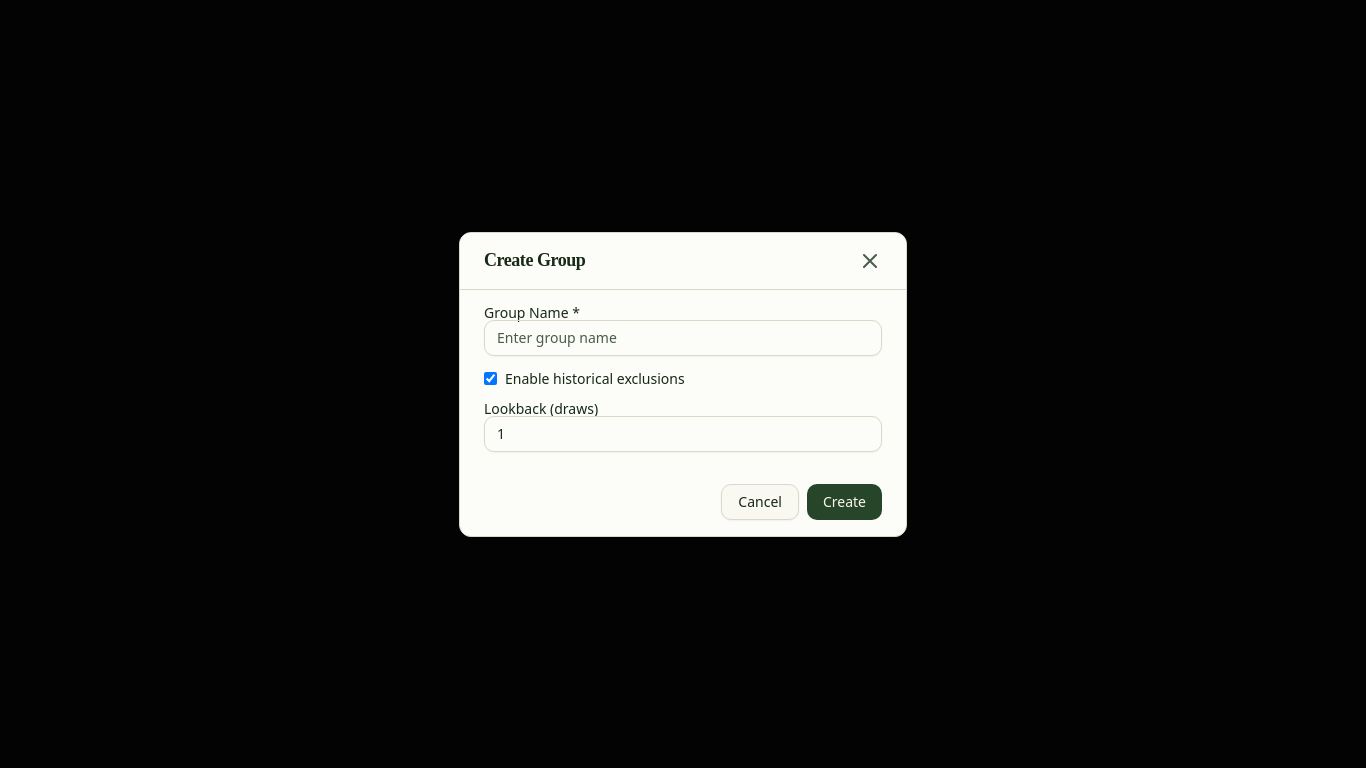
CreateGroupDialog › validates lookback field when enabled
In the field labelled "Group Name *": {"x": 683, "y": 338} [484,320,882,356], type "Test Group"
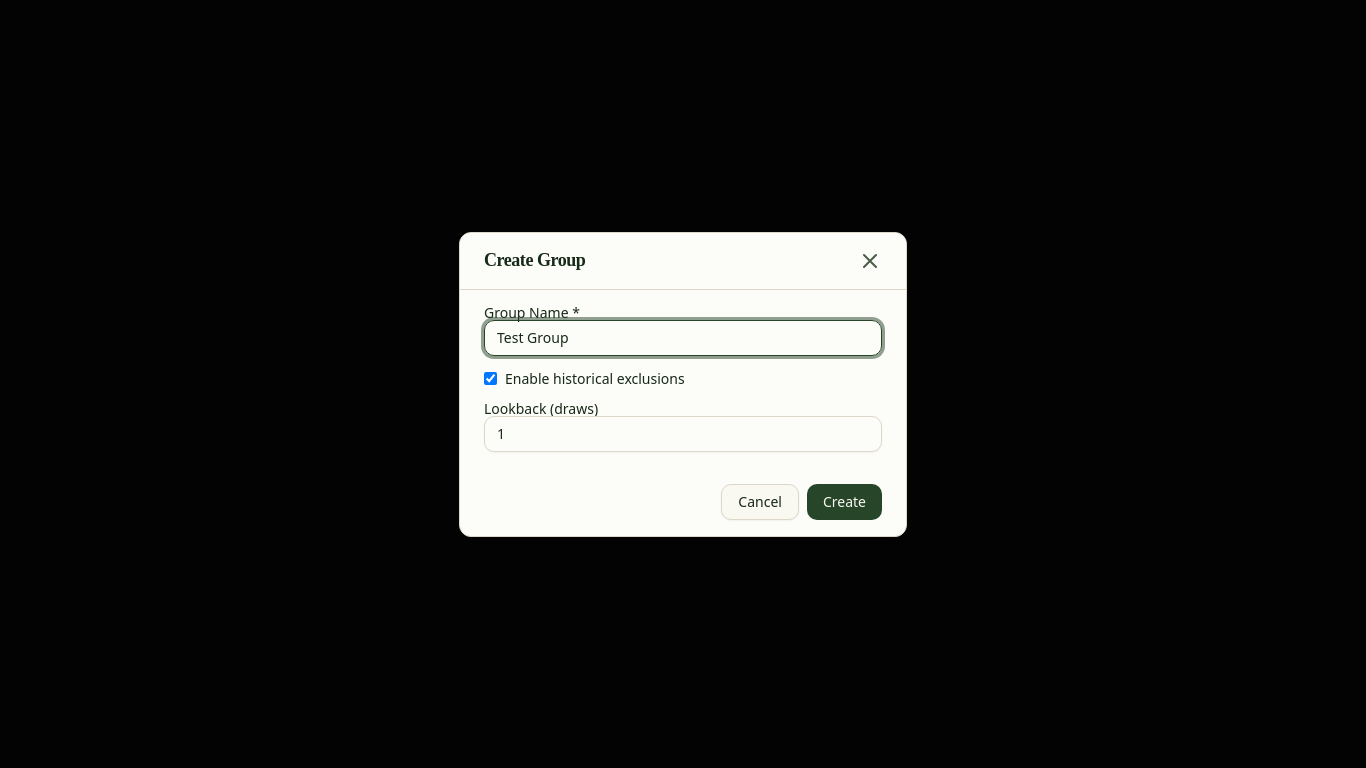
Replace the text in the number field labelled "Lookback (draws)" with "0": {"x": 683, "y": 434} [484,416,882,452]
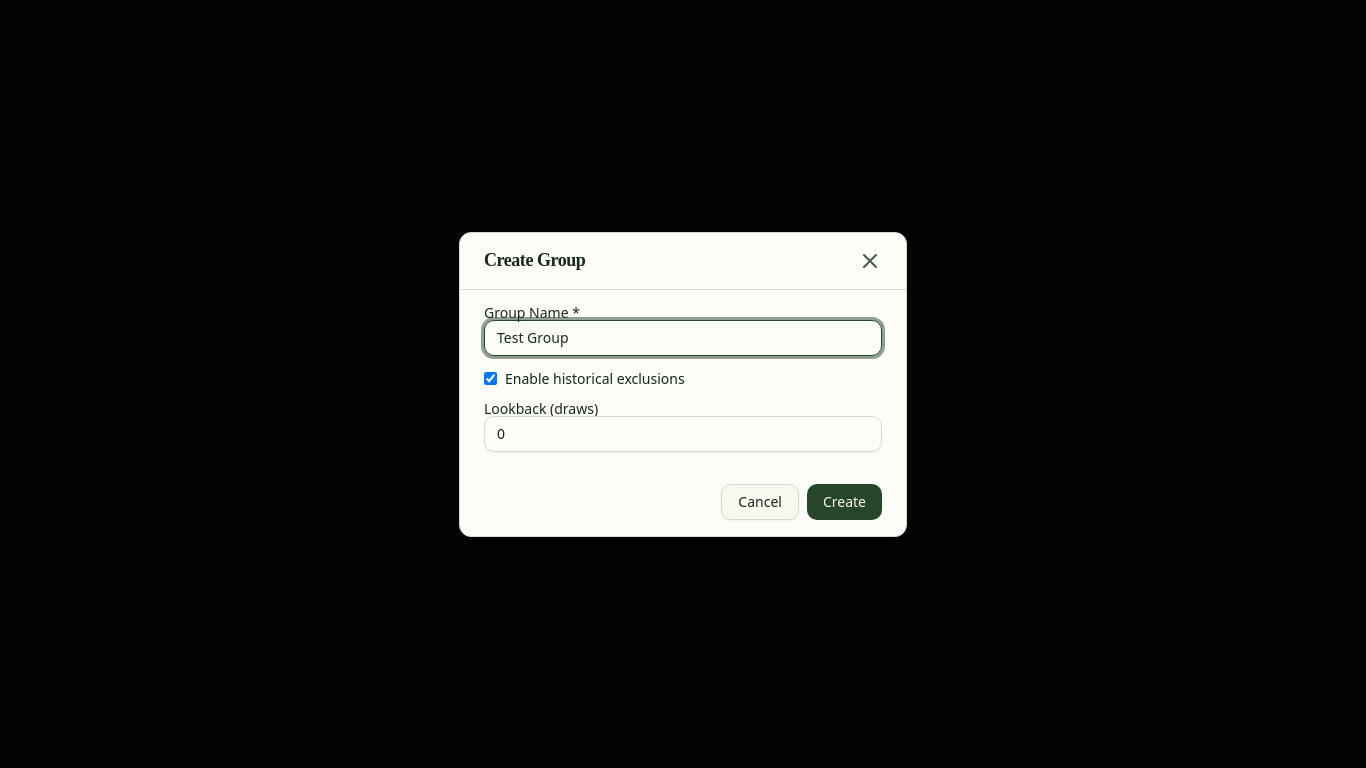
Leave the number field labelled "Lookback (draws)", box [484,416,882,452]
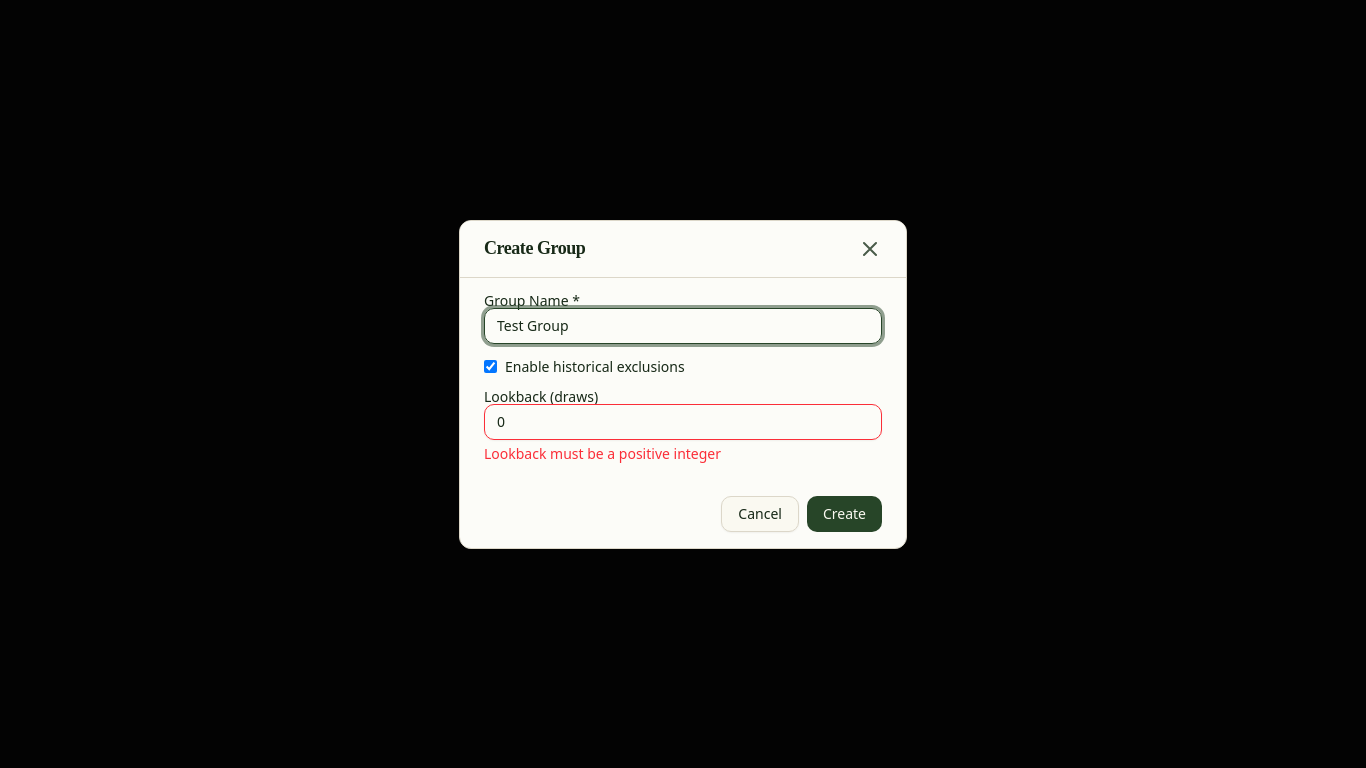
Check: the text "Lookback must be a positive integer" is shown, box [484,444,721,462]
